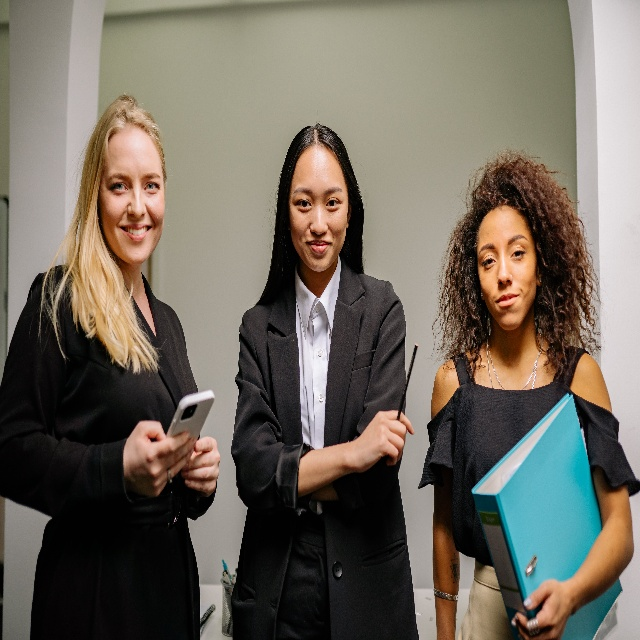Sin_guantes: (126, 420, 198, 499), (352, 406, 416, 475), (510, 574, 571, 640), (180, 433, 219, 496)
